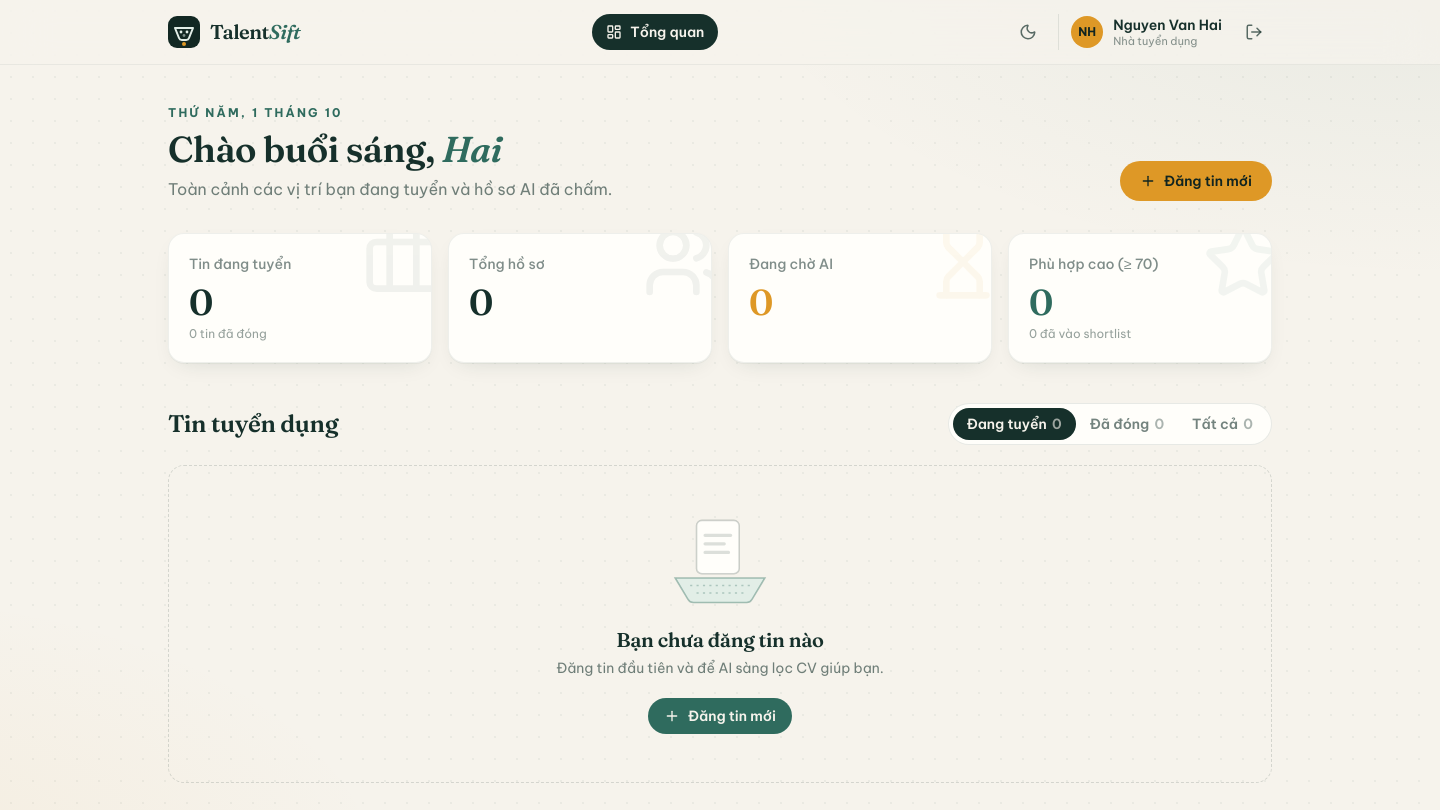
Test case: form dang tin: canh bao ky nang AI khong nhan ra › tu luu ban nhap: dong hop thoai roi mo lai van con noi dung
This screenshot has width=1440, height=810.
Click the button "Đăng tin mới" in the row of "Chào buổi sáng" at (1196, 181), box [1120,161,1272,201]
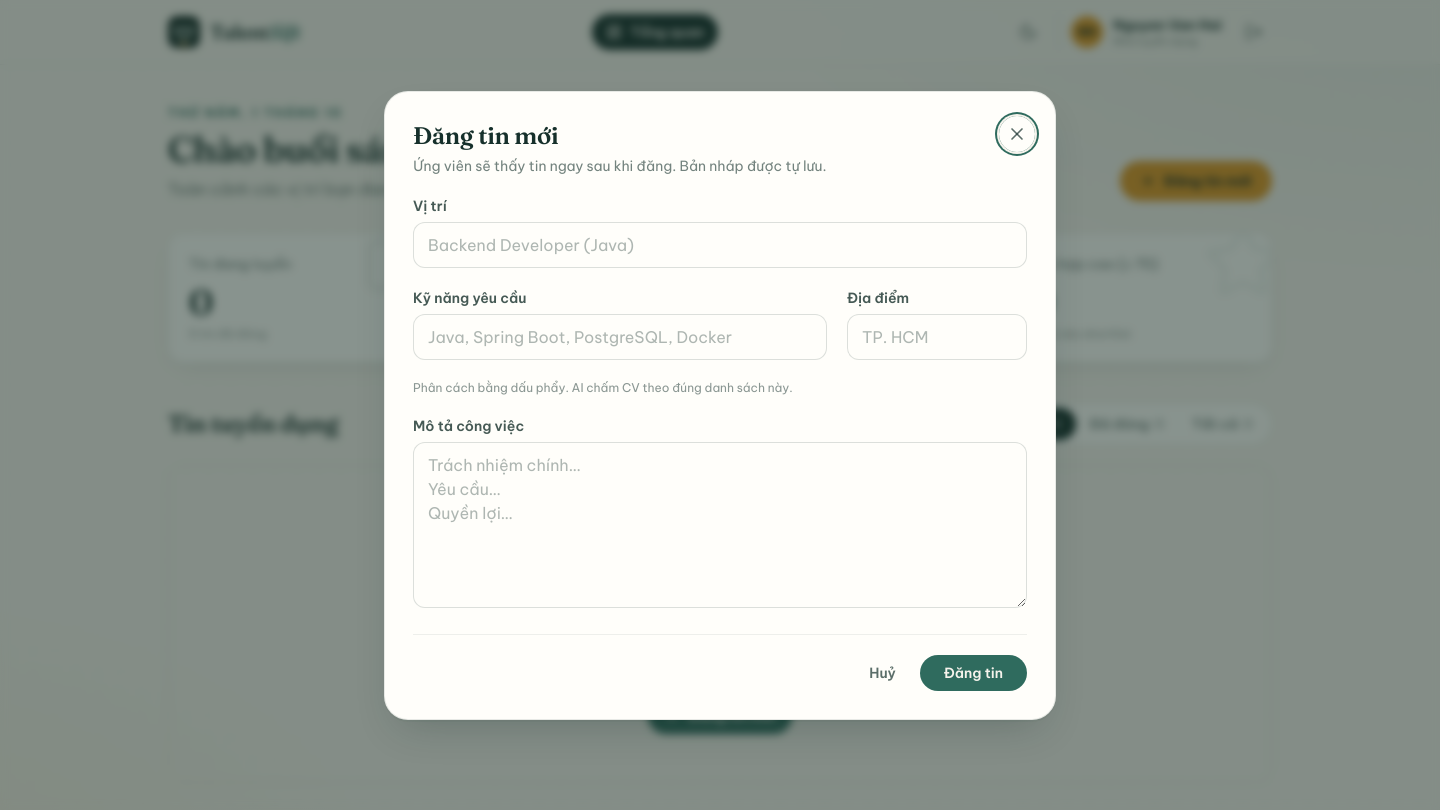
Type "Data Engineer" into the field labelled "Vị trí" at (720, 244), box [413,222,1027,268]
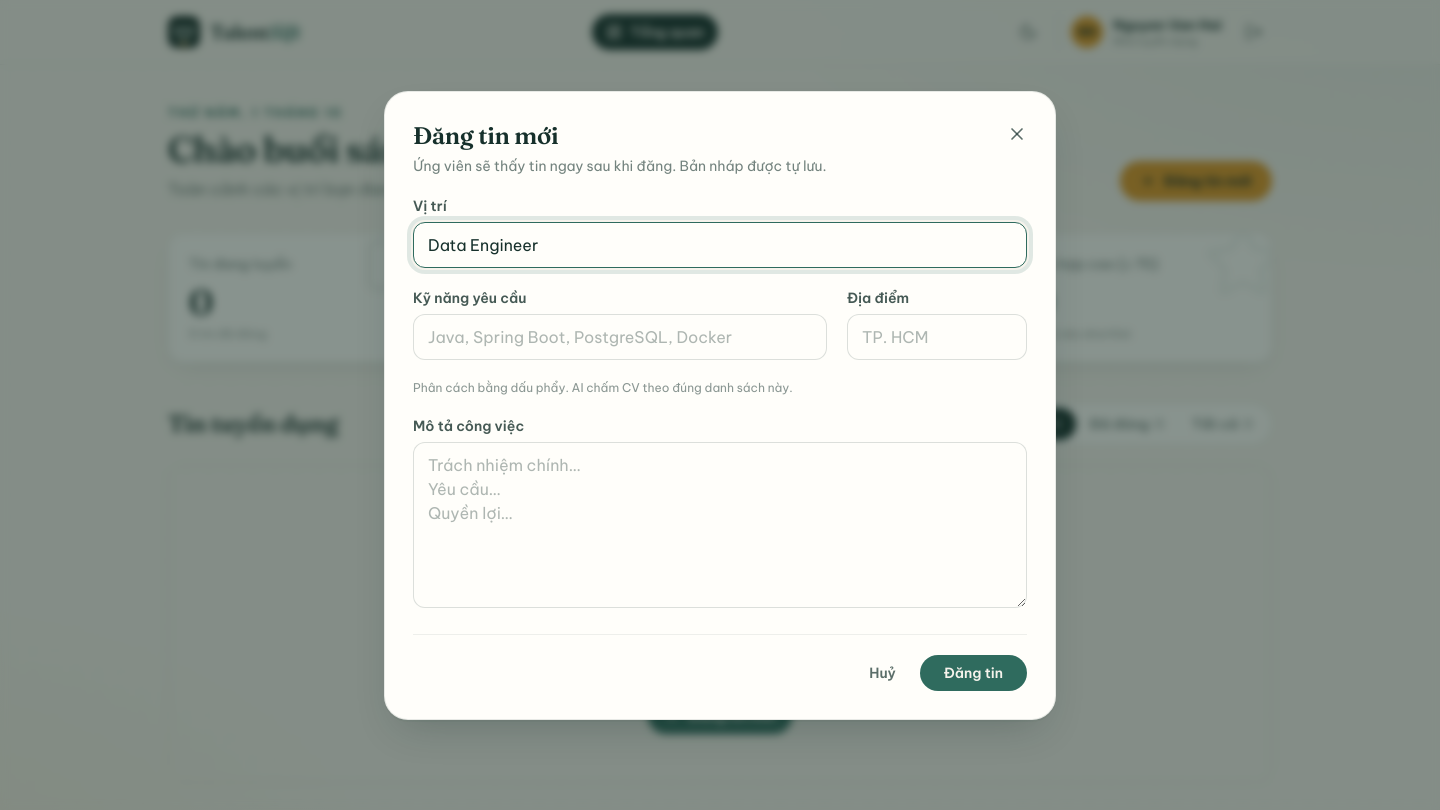
Click the button "Huỷ" at (883, 672), box [853,654,912,690]
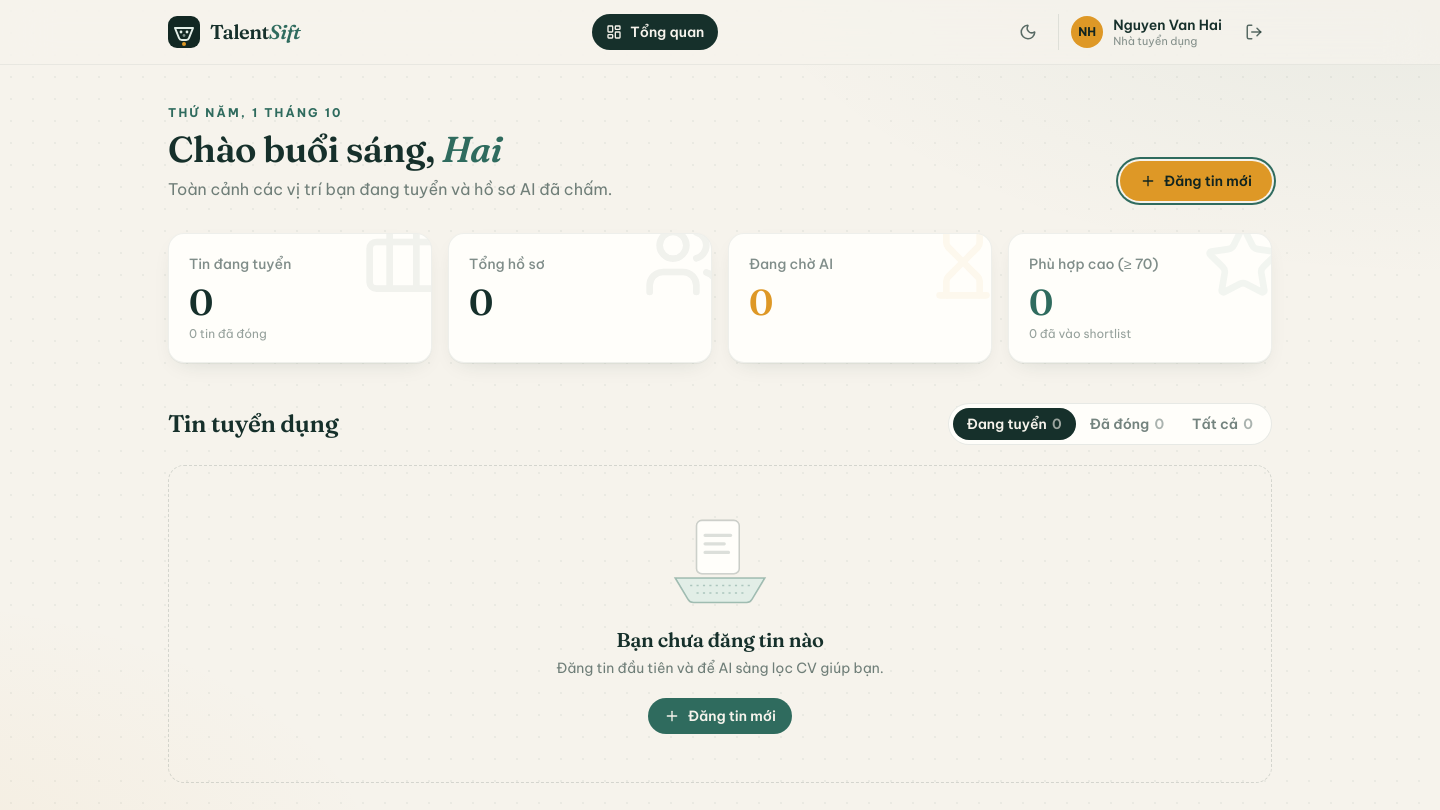
Click the button "Đăng tin mới" in the row of "Chào buổi sáng" at (1196, 181), box [1120,161,1272,201]
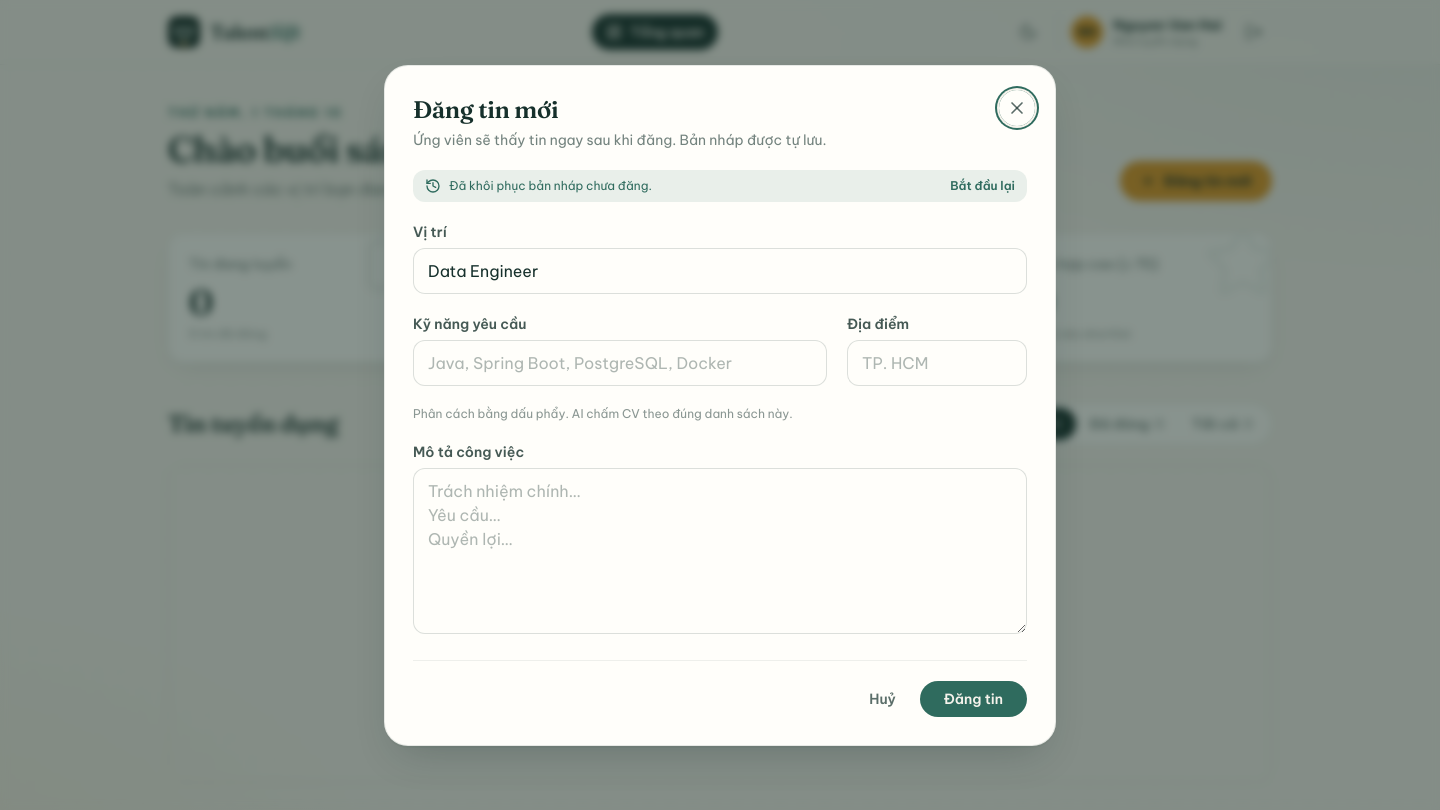
Result: the field labelled "Vị trí" holds "Data Engineer" at [413,248,1027,294]
Result: the text "Đã khôi phục bản nháp chưa đăng. Bắt đầu lại" is shown at [413,170,1027,202]
